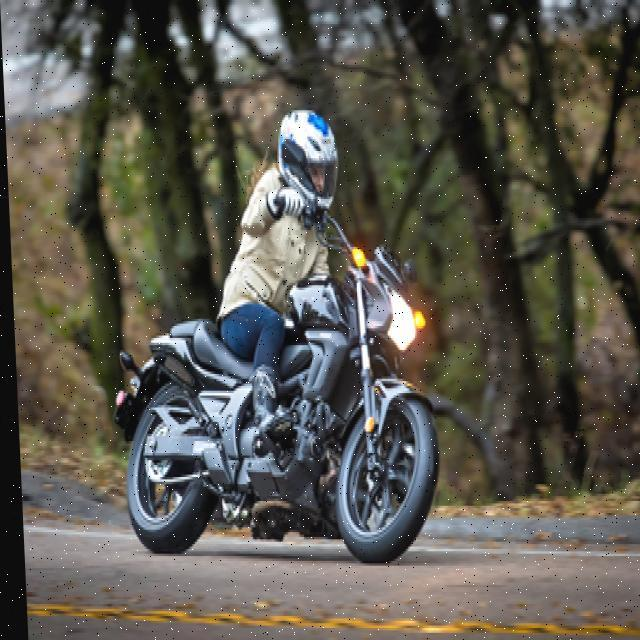Helmet: (274, 108, 342, 208)
